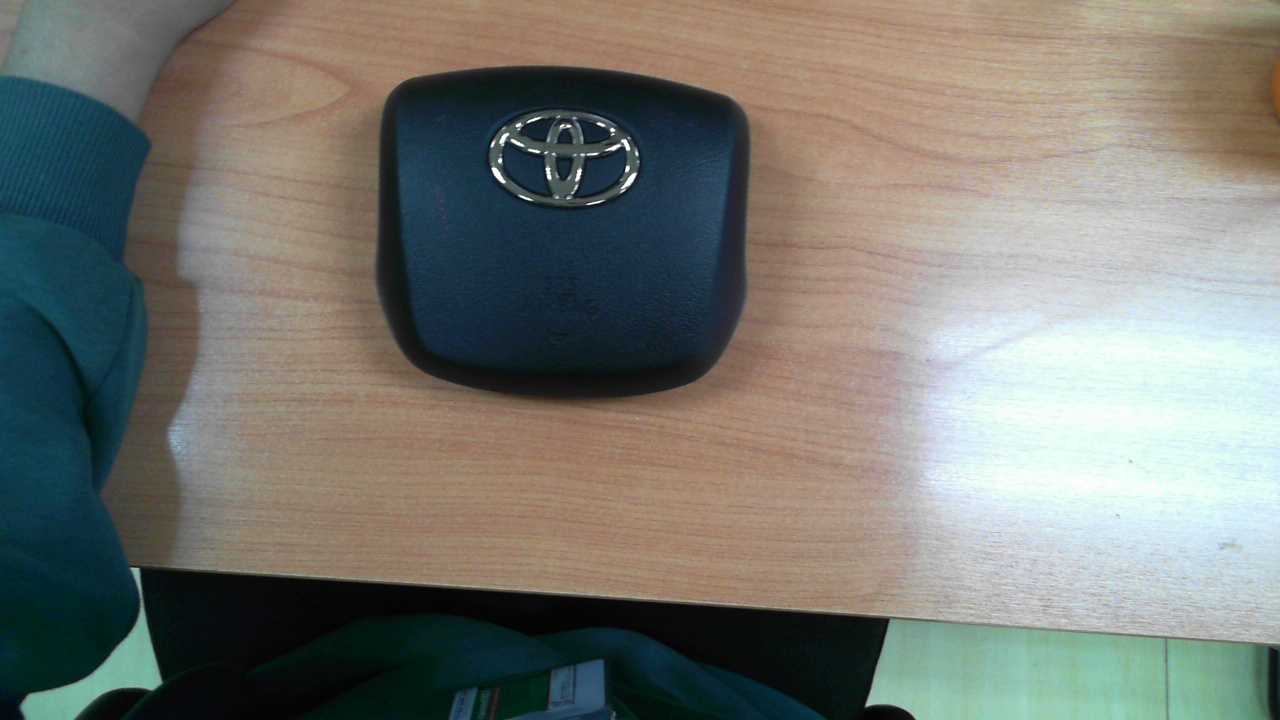Airbag: (374, 65, 751, 402)
Toyota: (489, 109, 640, 207)
